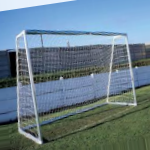goals: (14, 26, 137, 145)
